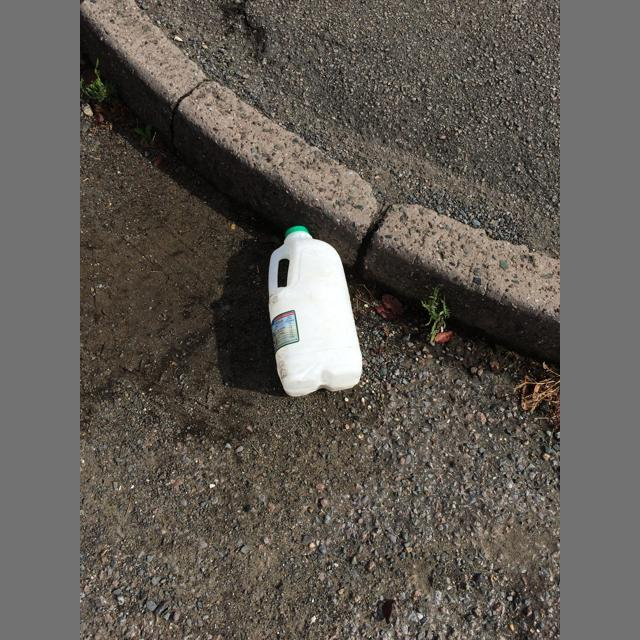litter: (269, 226, 362, 397), (285, 226, 310, 238)
